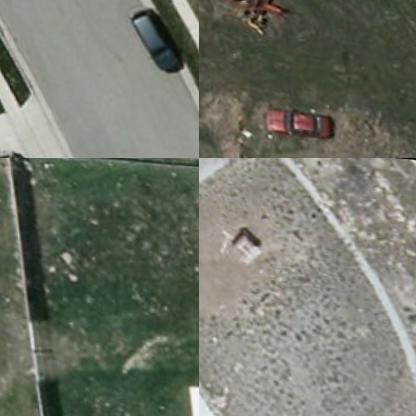car: (126, 2, 179, 70), (256, 108, 330, 138)
